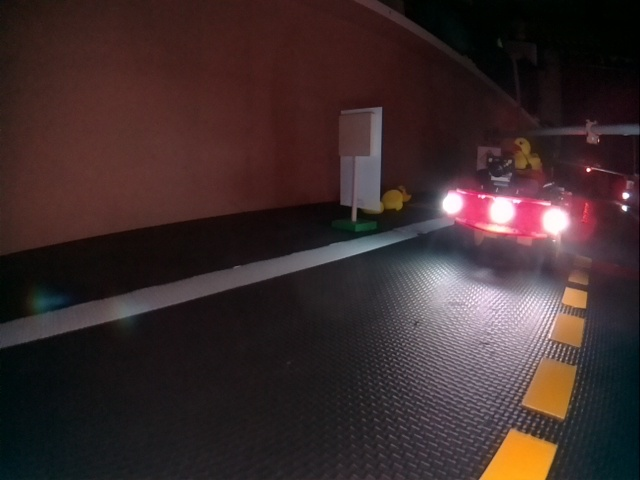Duckie: (511, 139, 540, 168), (383, 190, 402, 210)
Duckiebot: (445, 166, 589, 259)
